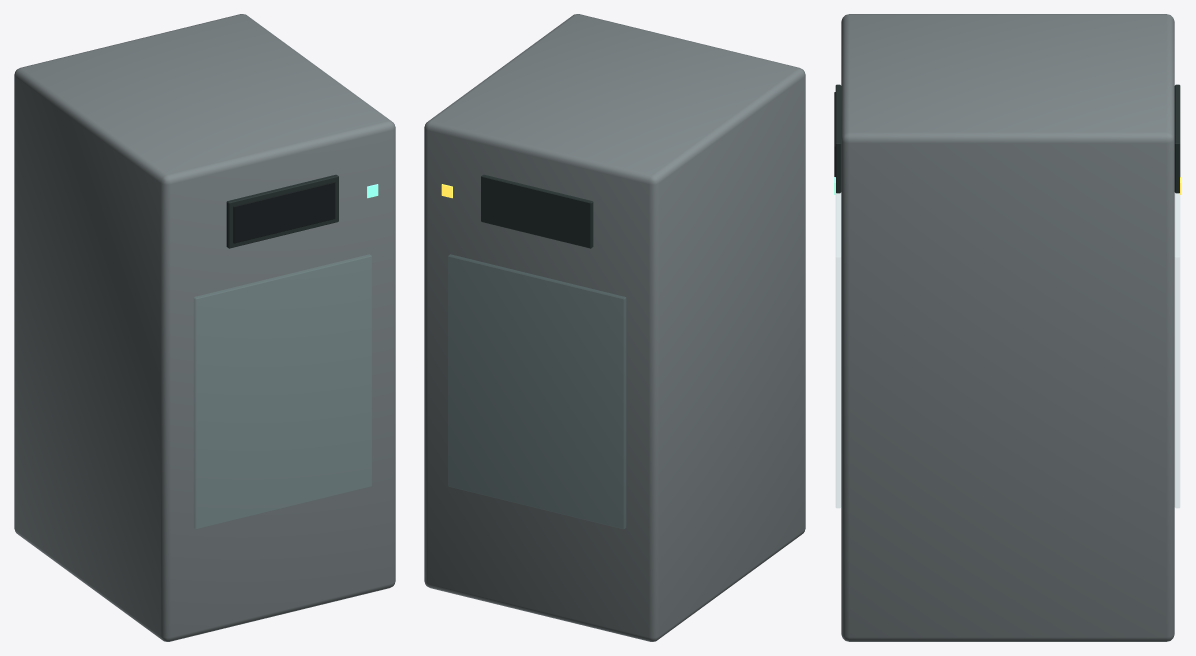
File: sc-washer-disinfector.glb
3 views of the same model, side by side, from view 1: azimuth 30°, elevation 25°; view 2: azimuth 150°, elevation 25°; view 3: azimuth 270°, elevation 25° (orthographic). The views are drawn at different scales.
Visible parts, largest first — view 1: sc-washer-disinfector; view 2: sc-washer-disinfector; view 3: sc-washer-disinfector.
Part boxes in pixels (box(x1,y1,x2,y2)): sc-washer-disinfector: box(14, 14, 395, 641); sc-washer-disinfector: box(424, 14, 805, 641); sc-washer-disinfector: box(834, 14, 1181, 641).
Bounding box in the file's own units: 1.06 × 2.02 × 1.25.
